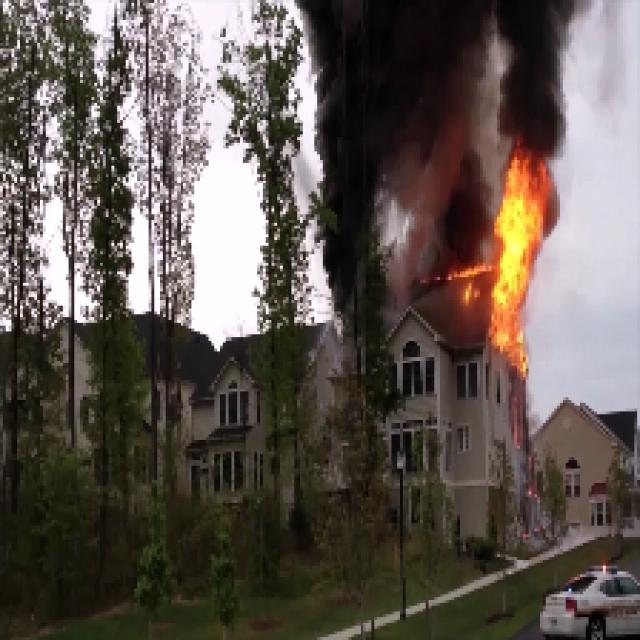fire: (490, 163, 541, 348)
smoke: (315, 11, 488, 284), (499, 0, 570, 147)
